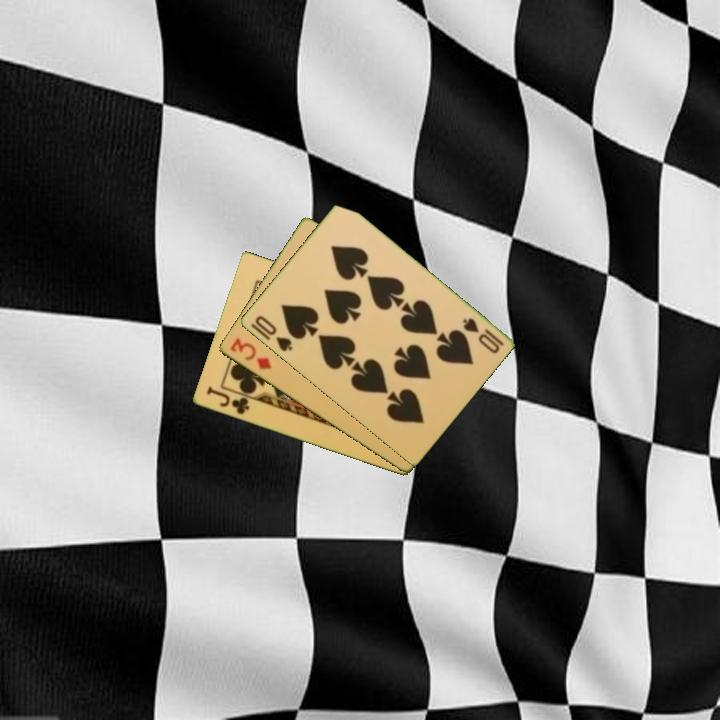10s: (459, 314, 506, 357), (251, 312, 295, 354)
3d: (226, 334, 274, 373)
Jc: (203, 383, 252, 418)
